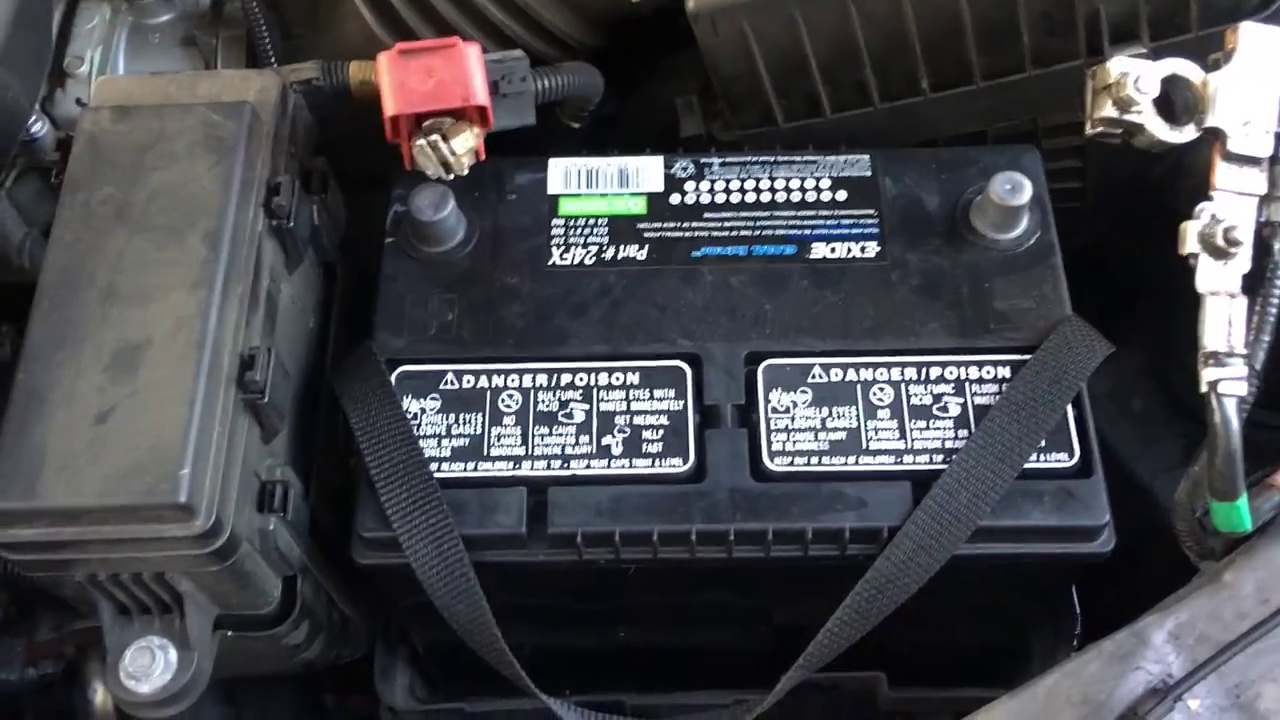battery: (379, 146, 1121, 548)
neg_disconnected: (925, 154, 1086, 276)
pos_disconnected: (333, 34, 529, 272)
